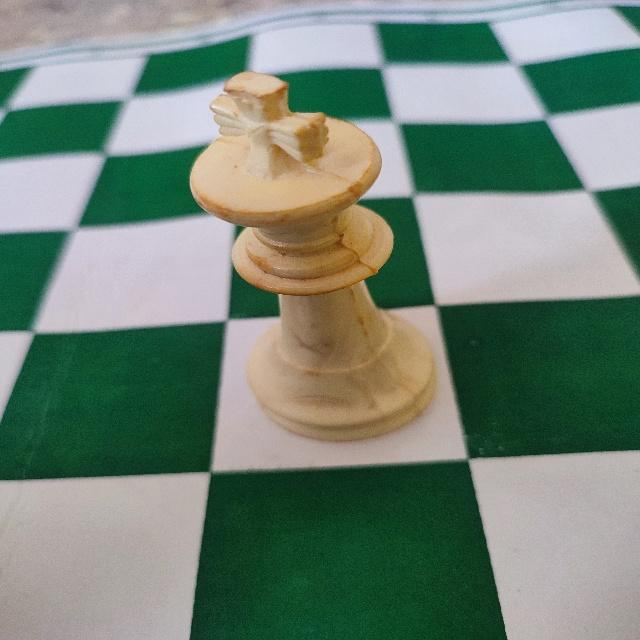King: (185, 64, 438, 450)
